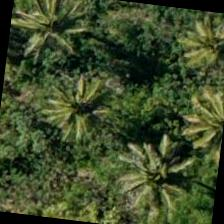Kelapa_Sawit: (29, 60, 129, 160), (103, 135, 204, 223), (6, 0, 107, 86), (158, 6, 223, 103), (171, 81, 223, 177)
